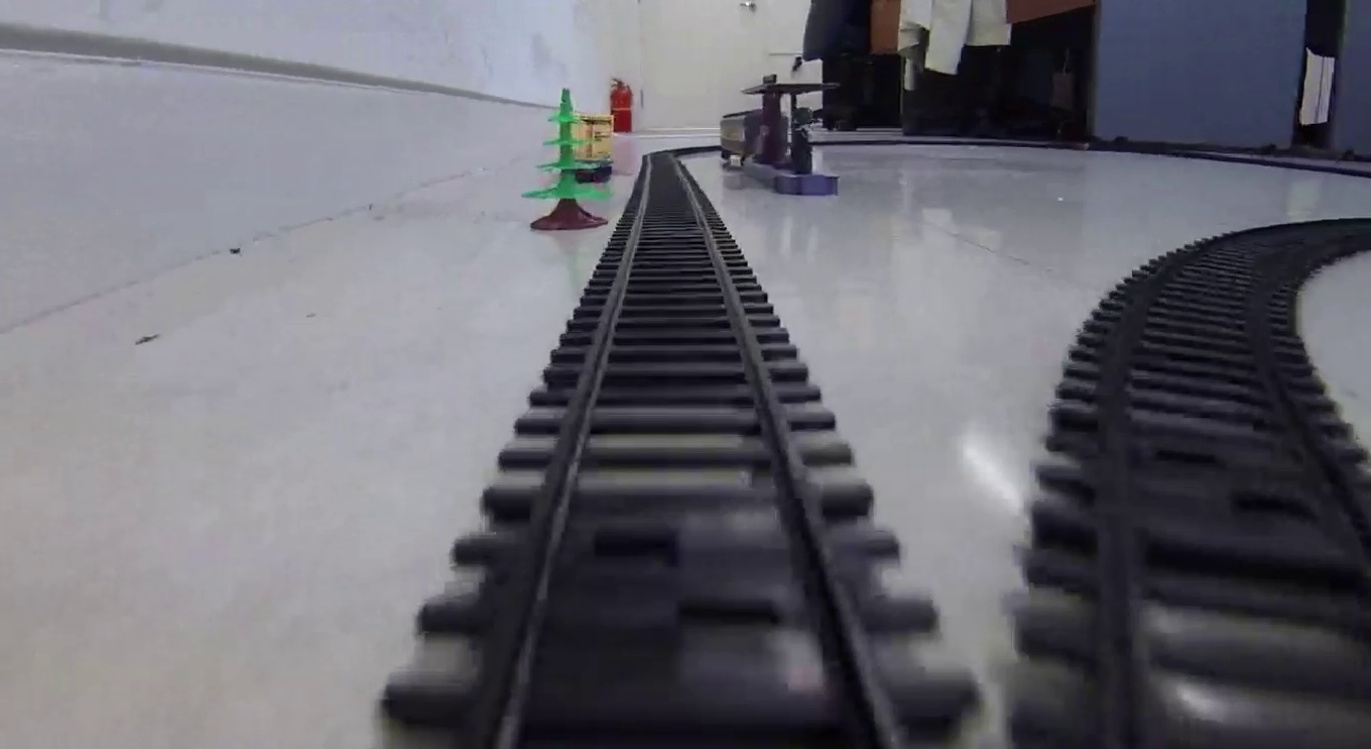tree: (519, 88, 610, 233)
